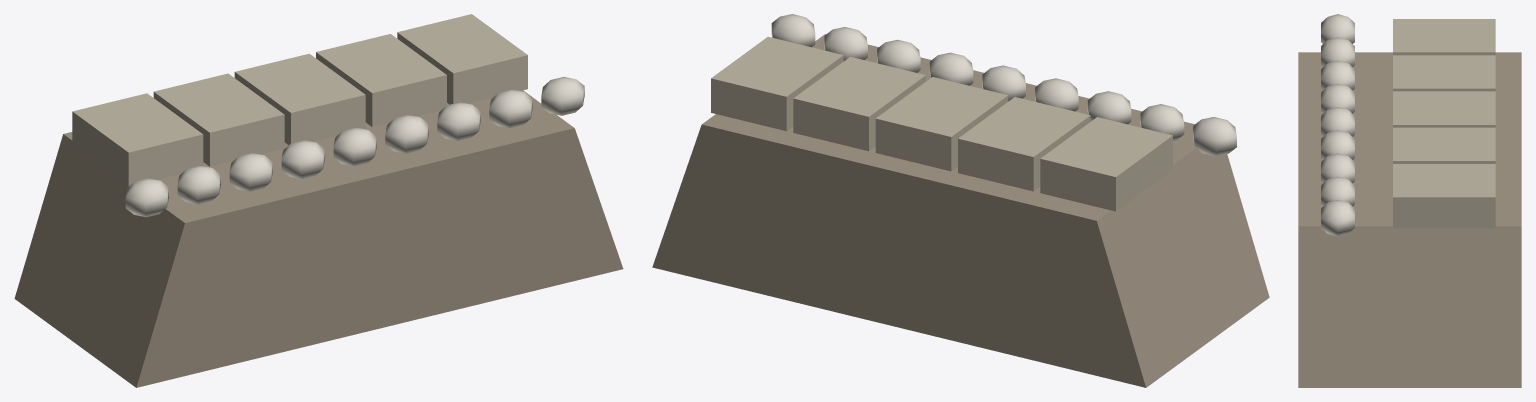
The model's file is trench-line-1917-parados-10b89050__24047.glb.
3 renders of one model, left to right at view 1: azimuth 30°, elevation 25°; view 2: azimuth 150°, elevation 25°; view 3: azimuth 270°, elevation 25°, orthographic. The views are drawn at different scales.
Visible parts, largest first — view 1: parados; view 2: parados; view 3: parados.
Boxes of the visible parts, x1,y1,x2,y2 form: parados: (14, 14, 623, 387); parados: (652, 14, 1269, 387); parados: (1298, 14, 1521, 387).
Size of the model in its own units: 3 by 1.1 by 1.3.
